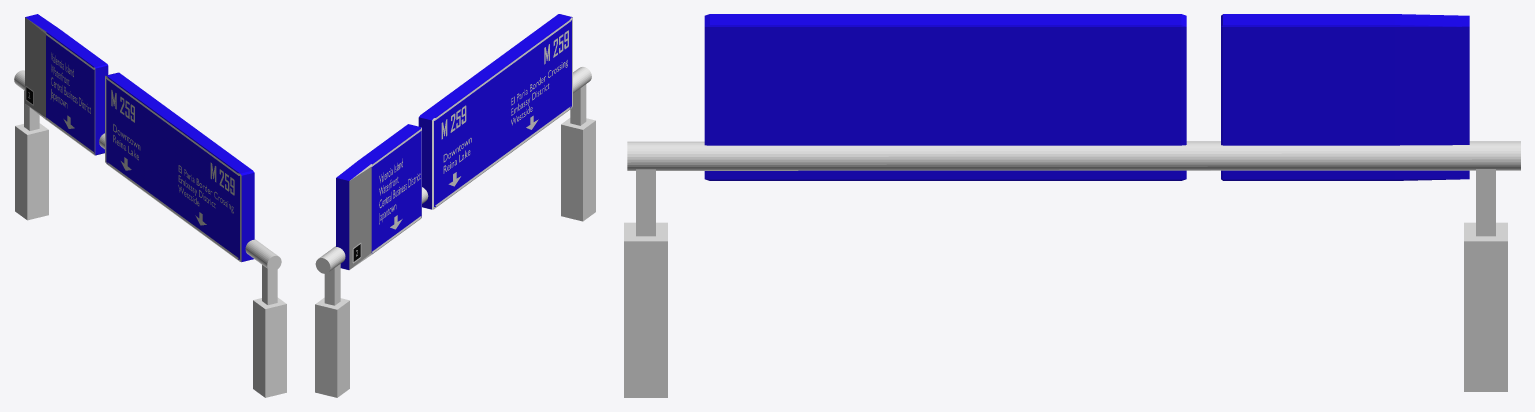
The model's file is UK_Motorway_gantry_4.fbx.
3 renders of one model, left to right at view 1: azimuth 30°, elevation 25°; view 2: azimuth 150°, elevation 25°; view 3: azimuth 270°, elevation 25°, orthographic. The views are drawn at different scales.
Visible parts, largest first — view 1: Cube.003, Cube.001, Cube.002, Cube, Cylinder, Text.001, Text.003, Text.005, Text.004; view 2: Cube.003, Cube.001, Cube.002, Cube, Cylinder, Text.001, Text.003, Text.004, Text.005; view 3: Cube.003, Cube.001, Cylinder, Cube.002, Cube.
Boxes of the visible parts, left/top/right/bottom form: Cube.003: left=105, top=72, right=254, bottom=262; Cube.001: left=25, top=14, right=108, bottom=155; Cube.002: left=253, top=265, right=286, bottom=397; Cube: left=15, top=90, right=48, bottom=220; Cylinder: left=14, top=70, right=281, bottom=270; Text.001: left=50, top=52, right=90, bottom=113; Text.003: left=178, top=165, right=233, bottom=213; Text.005: left=210, top=162, right=234, bottom=195; Text.004: left=111, top=90, right=134, bottom=122; Cube.003: left=418, top=14, right=572, bottom=209; Cube.001: left=336, top=124, right=421, bottom=269; Cube.002: left=561, top=84, right=595, bottom=221; Cube: left=315, top=264, right=349, bottom=397; Cylinder: left=315, top=67, right=591, bottom=273; Text.001: left=379, top=158, right=420, bottom=224; Text.003: left=511, top=60, right=567, bottom=125; Text.004: left=441, top=105, right=466, bottom=139; Text.005: left=544, top=30, right=568, bottom=64; Cube.003: left=704, top=14, right=1186, bottom=180; Cube.001: left=1221, top=14, right=1469, bottom=180; Cylinder: left=627, top=141, right=1520, bottom=170; Cube.002: left=624, top=169, right=667, bottom=397; Cube: left=1464, top=169, right=1507, bottom=391.
Bounding box in the file's own units: 6.66 × 55.12 × 123.
